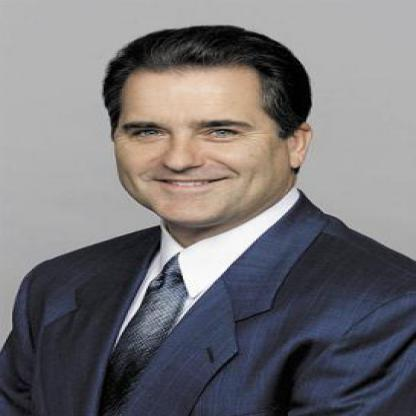face: (107, 43, 293, 228)
